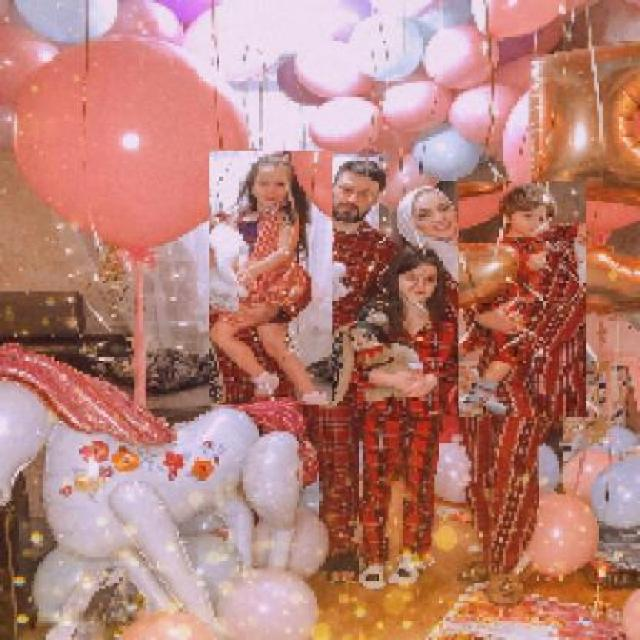child: (208, 150, 332, 407), (457, 182, 586, 418)
